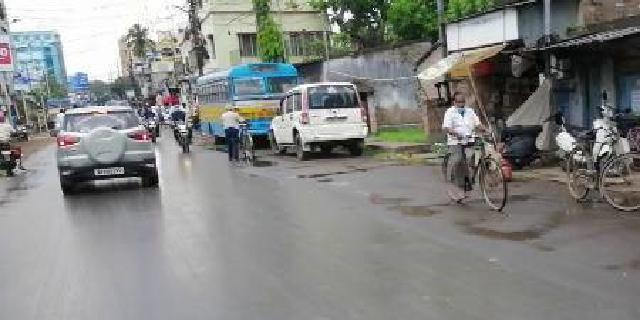Bus: (194, 56, 298, 135)
Car: (59, 101, 160, 195), (267, 85, 369, 158)
Cycle: (437, 88, 517, 217), (563, 127, 640, 210)
Motorbike: (166, 100, 199, 154)
